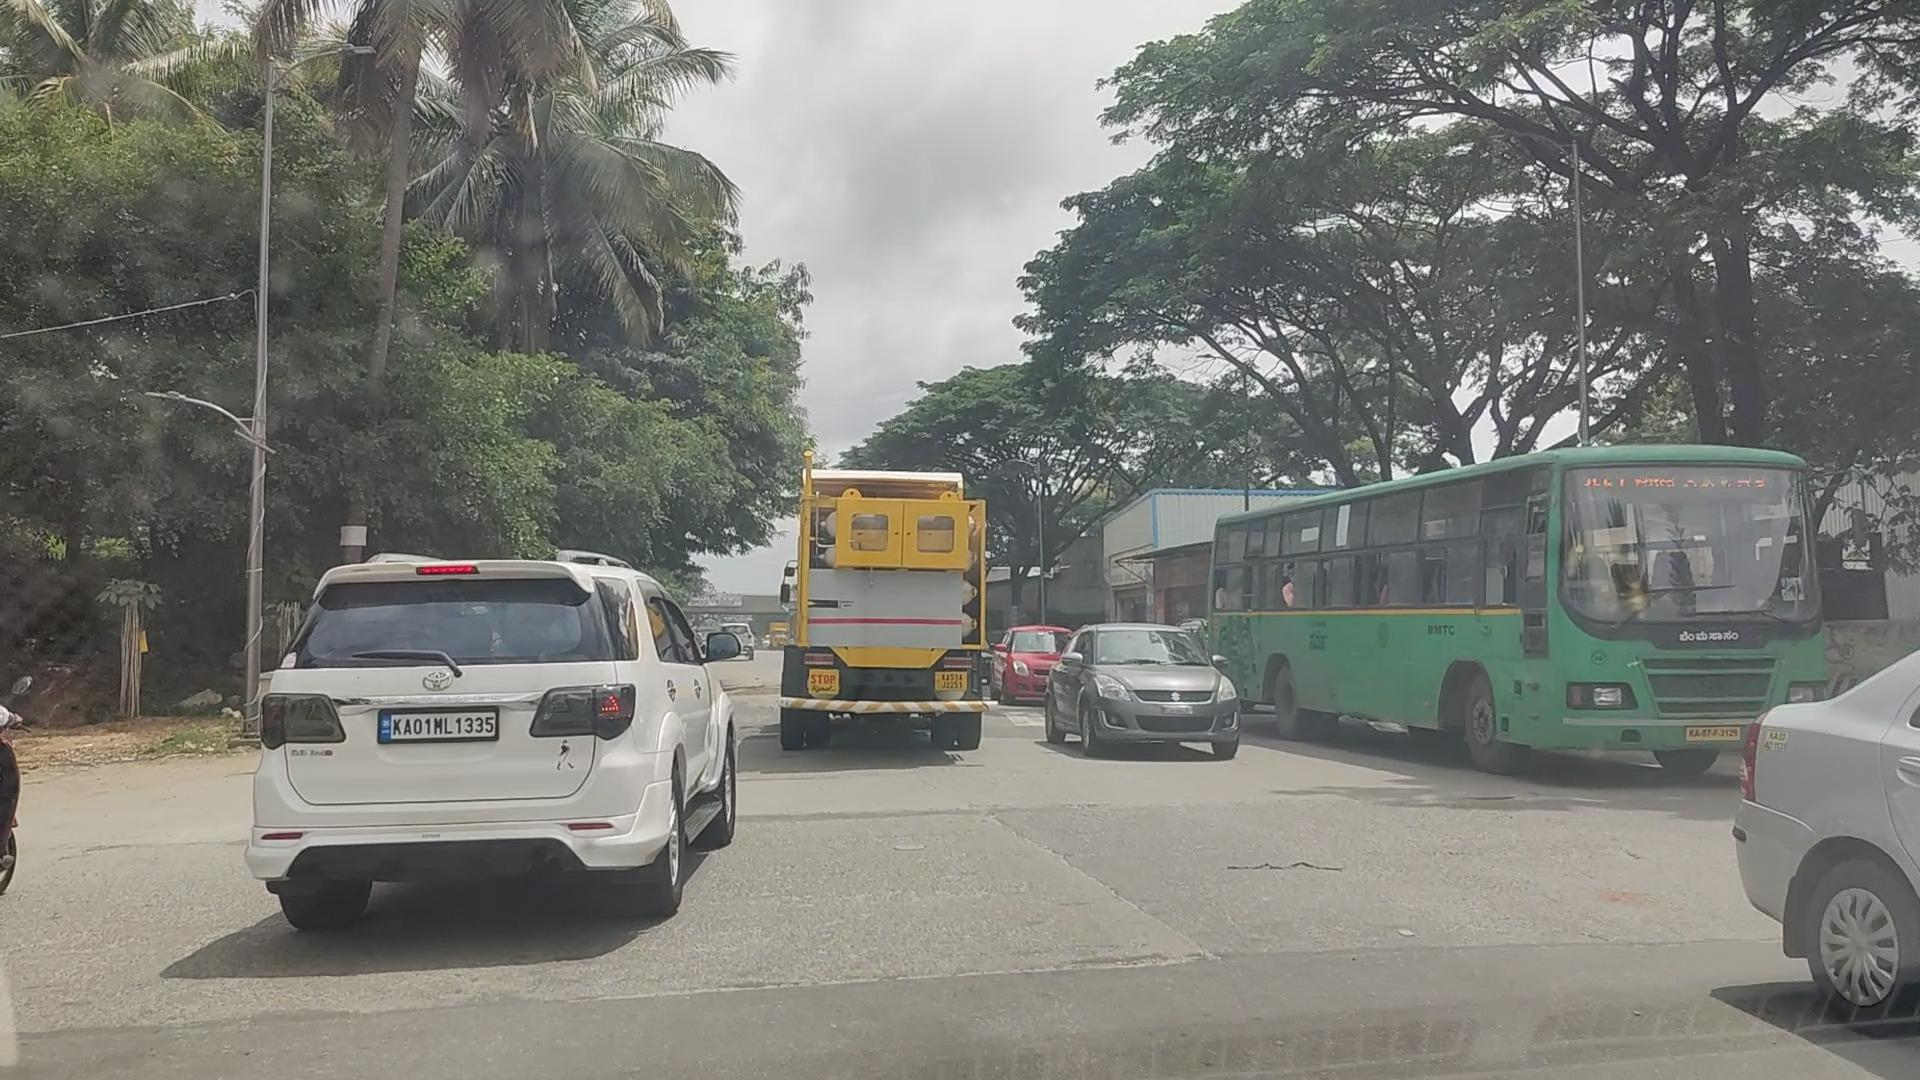HMV: (790, 471, 985, 748)
LMV: (243, 562, 729, 910)
RoadDamages: (5, 951, 1249, 1040), (923, 770, 1205, 955)
